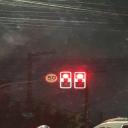speed_limit_50: (45, 72, 58, 85)
